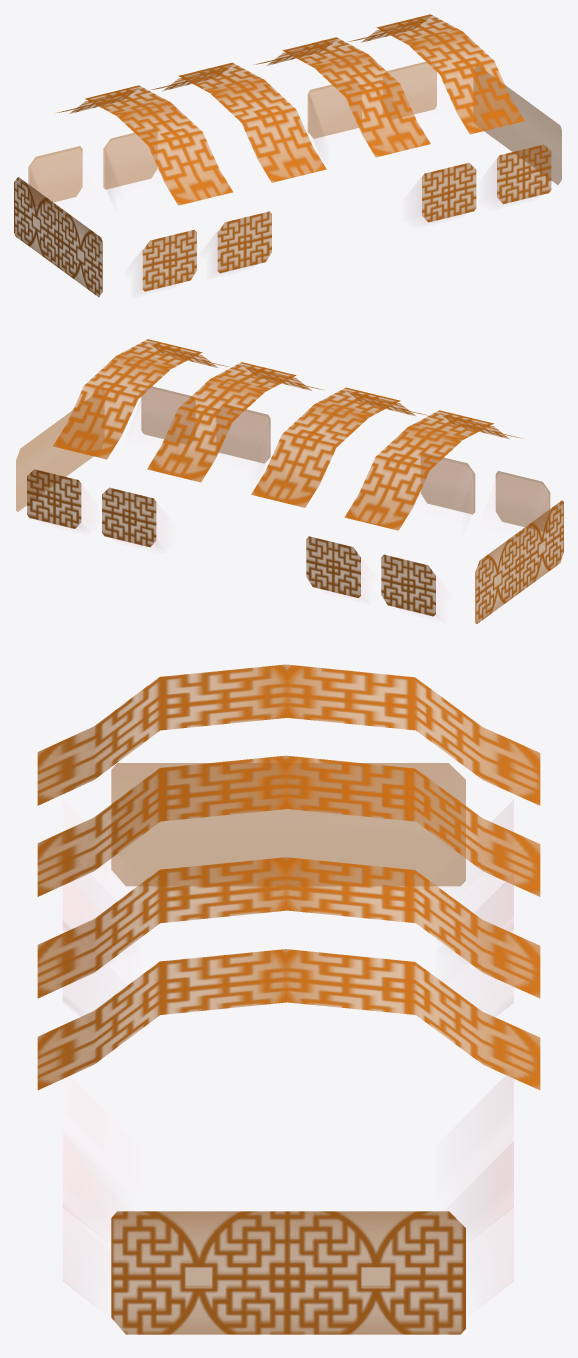
Rendered from chinese_tram_windows.glb.
The picture shows the model from 3 angles, top to bottom: view 1: azimuth 30°, elevation 25°; view 2: azimuth 150°, elevation 25°; view 3: azimuth 270°, elevation 25°; orthographic projection. The views are drawn at different scales.
Visible parts, largest first — view 1: chinese_tram_windows; view 2: chinese_tram_windows; view 3: chinese_tram_windows.
Part boxes in pixels (left/top/right/bottom): chinese_tram_windows: left=14, top=14, right=561, bottom=297; chinese_tram_windows: left=16, top=339, right=563, bottom=623; chinese_tram_windows: left=37, top=664, right=540, bottom=1334.
Bounding box in the file's own units: 14.25 × 4.87 × 6.72.
Materials: 1 (1 with a texture image).
